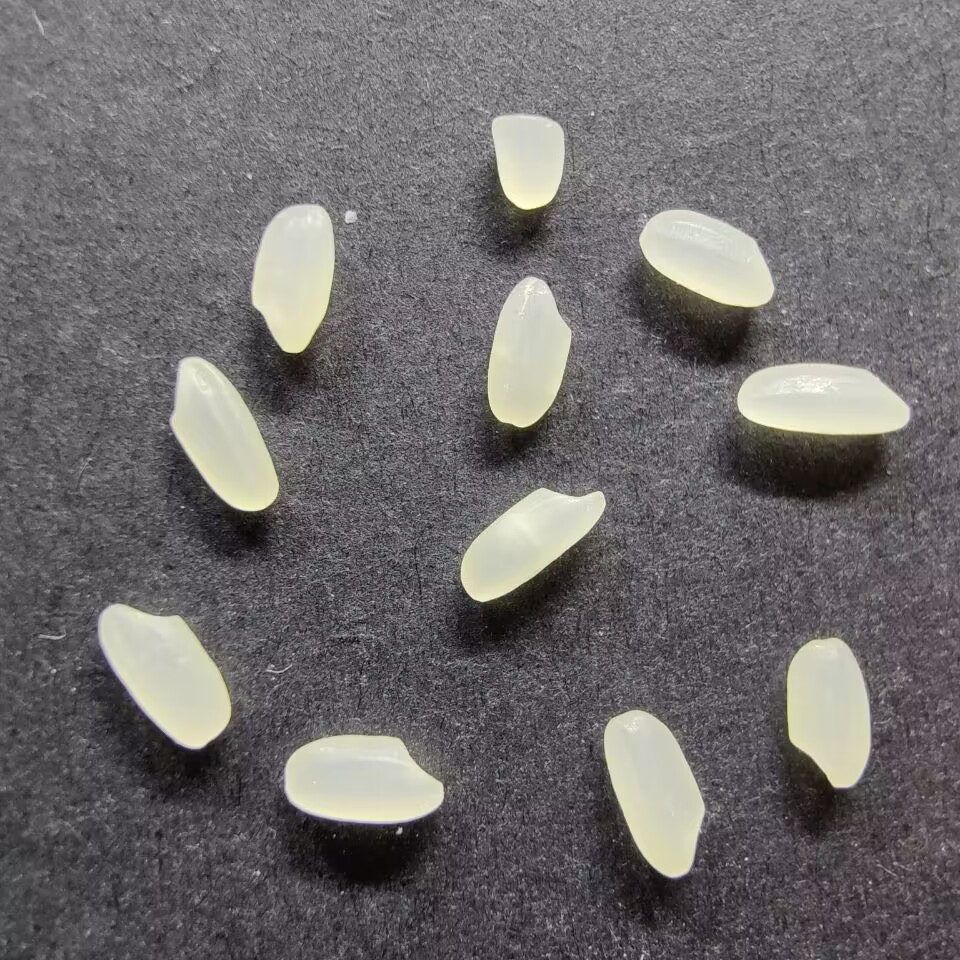broken: (489, 113, 566, 210)
rice: (95, 602, 233, 751), (601, 709, 706, 878), (167, 355, 279, 513), (459, 486, 608, 604), (281, 735, 445, 823), (638, 207, 775, 309), (484, 276, 573, 429), (248, 203, 336, 354), (784, 638, 872, 789), (735, 362, 911, 437)
